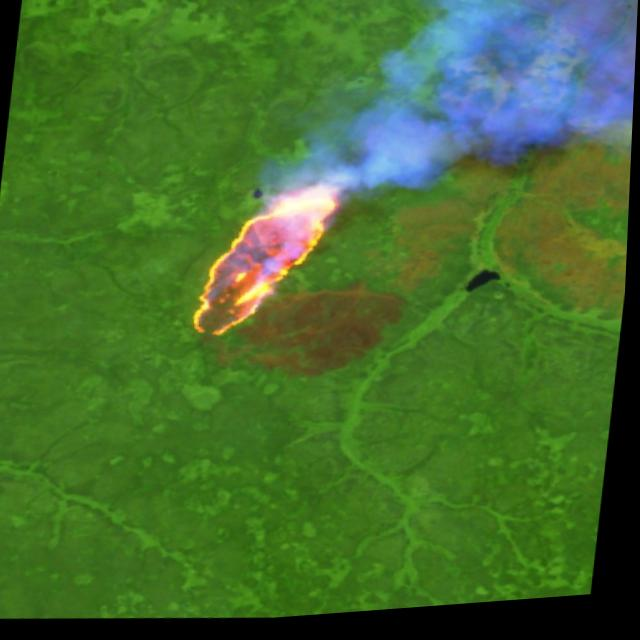fire: (186, 174, 349, 351)
